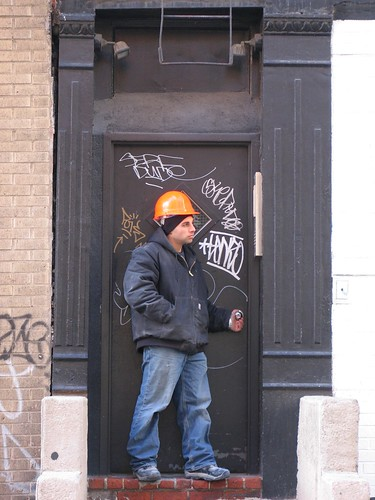person hardhat: (152, 190, 200, 245)
